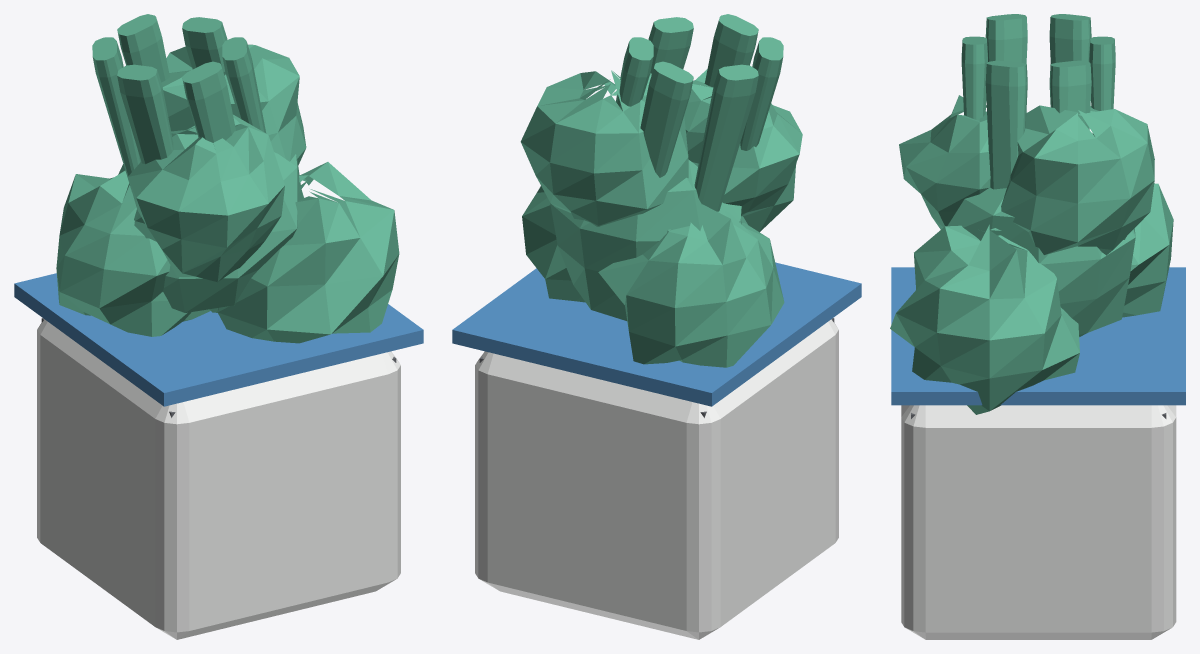
Rendered from public-swimming-baths-and-poolside-poolside-planter-577b46bb__35261.glb.
3 views of the same model, side by side, from view 1: azimuth 30°, elevation 25°; view 2: azimuth 150°, elevation 25°; view 3: azimuth 270°, elevation 25° (orthographic).
Visible parts, largest first — view 1: poolside-planter; view 2: poolside-planter; view 3: poolside-planter.
Boxes of the visible parts, <box> form: poolside-planter: <box>14,14,423,639</box>; poolside-planter: <box>452,14,861,639</box>; poolside-planter: <box>890,14,1185,639</box>.
Bounding box in the file's own units: 0.6534 × 1.2 × 0.6028.
